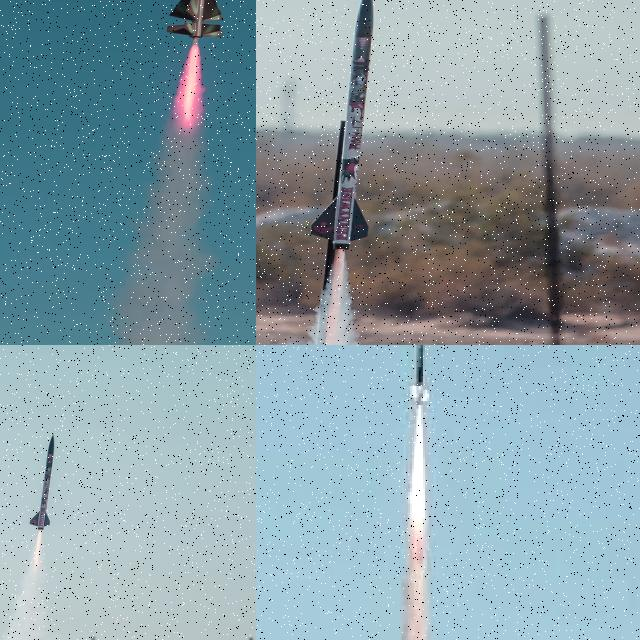Rocket: (311, 0, 376, 250), (165, 0, 225, 41), (30, 433, 54, 531), (407, 345, 431, 410)
